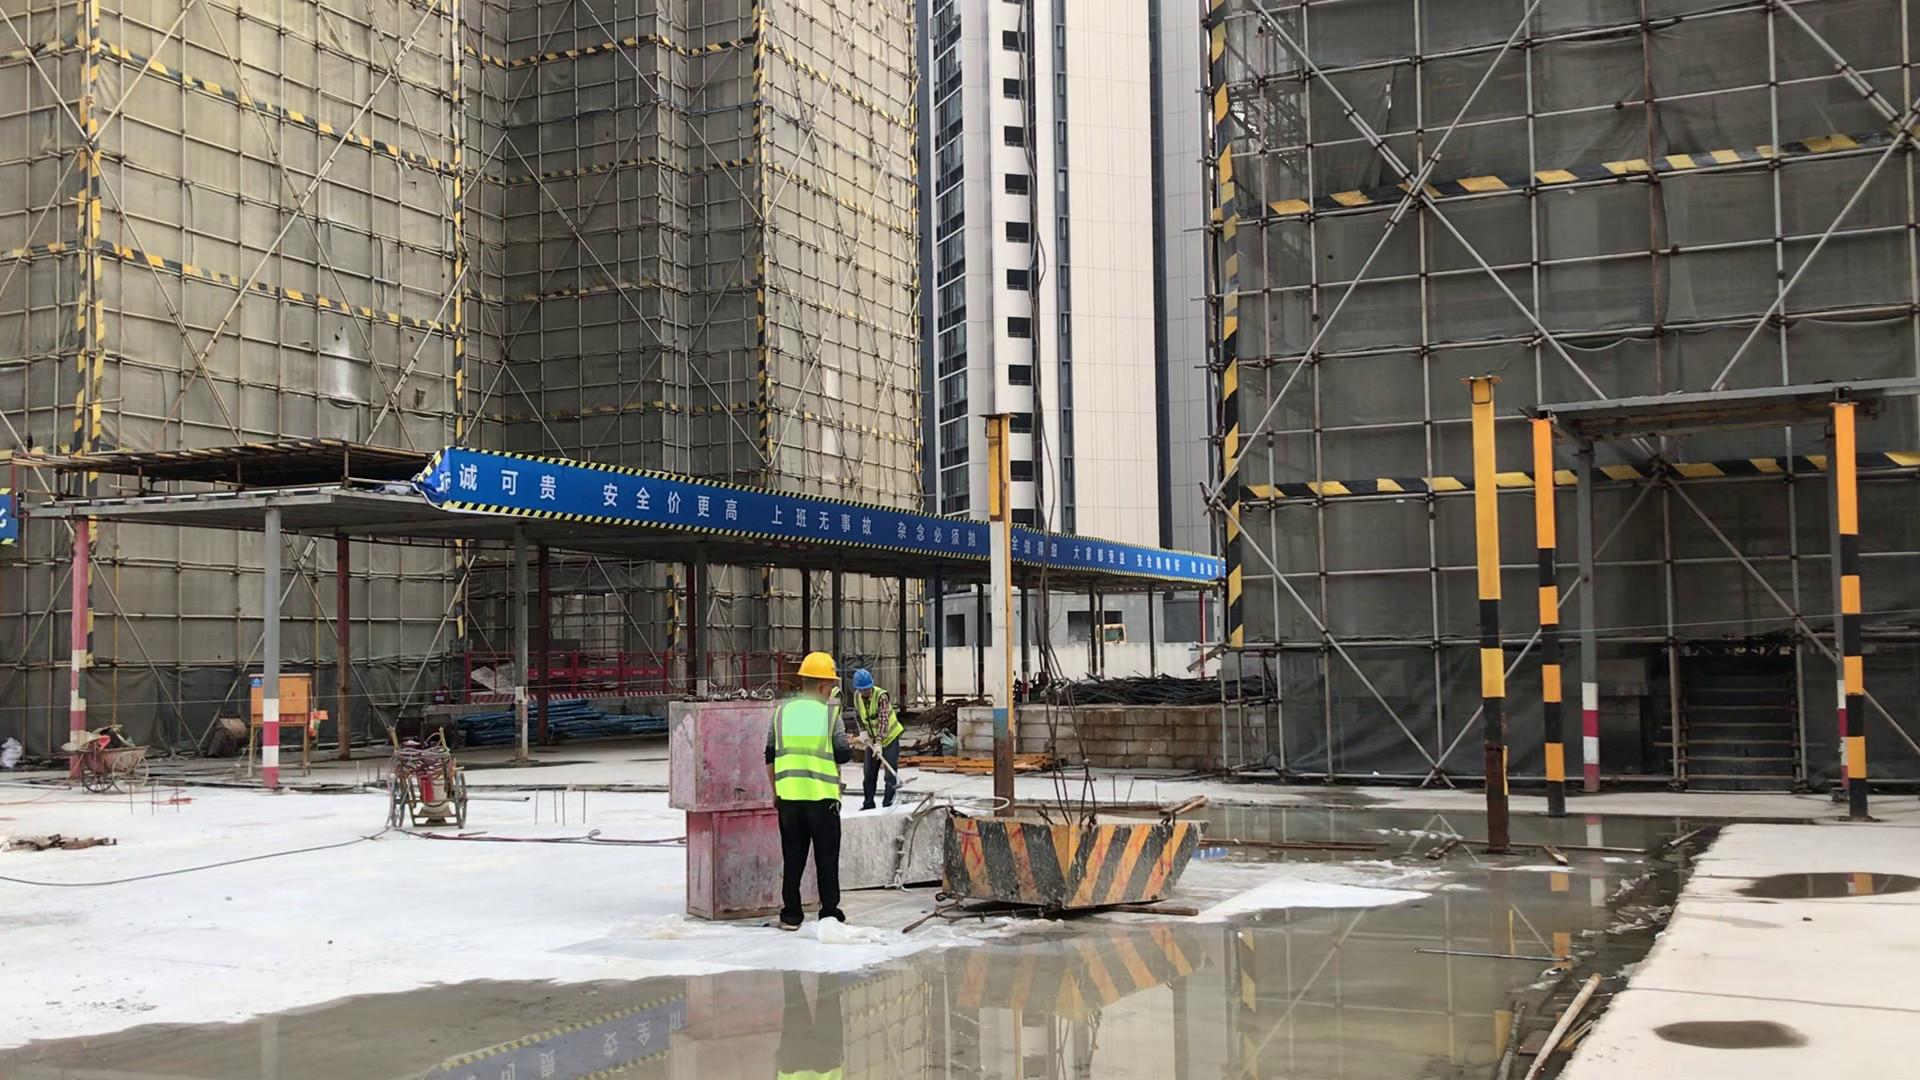ebox: (247, 670, 315, 718)
fence: (466, 653, 806, 701)
handcart: (382, 720, 467, 827)
helmet: (797, 651, 840, 682), (852, 668, 874, 690)
hopper: (943, 807, 1204, 908), (829, 801, 947, 892)
person: (765, 654, 851, 943), (850, 669, 903, 811)
slogan: (442, 447, 1224, 588)
vest: (771, 700, 843, 803), (855, 688, 902, 745)
